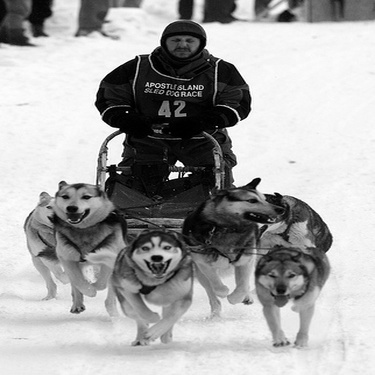dog: (179, 165, 287, 336), (215, 233, 346, 366), (80, 221, 203, 358), (35, 170, 141, 325), (222, 179, 342, 294), (20, 185, 85, 309)
